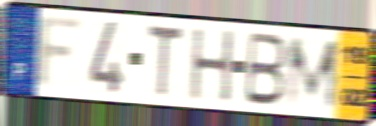4: (86, 19, 126, 97)
B: (242, 30, 290, 108)
F: (33, 14, 87, 92)
H: (189, 28, 237, 104)
M: (284, 37, 341, 111)
T: (145, 22, 185, 102)
